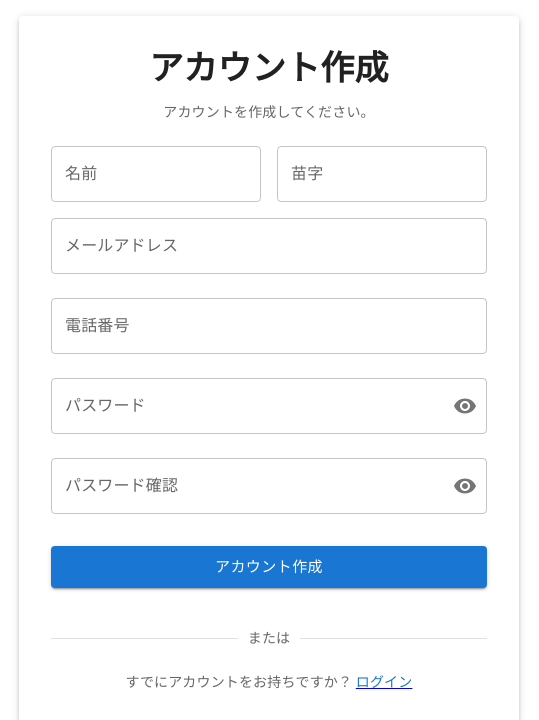
Test: RegisterForm › shows password mismatch error
In the field labelled "名前": [156, 174] box [51,146,261,202], type "Taro"
In the field labelled "苗字": [382, 174] box [277,146,487,202], type "Yamada"
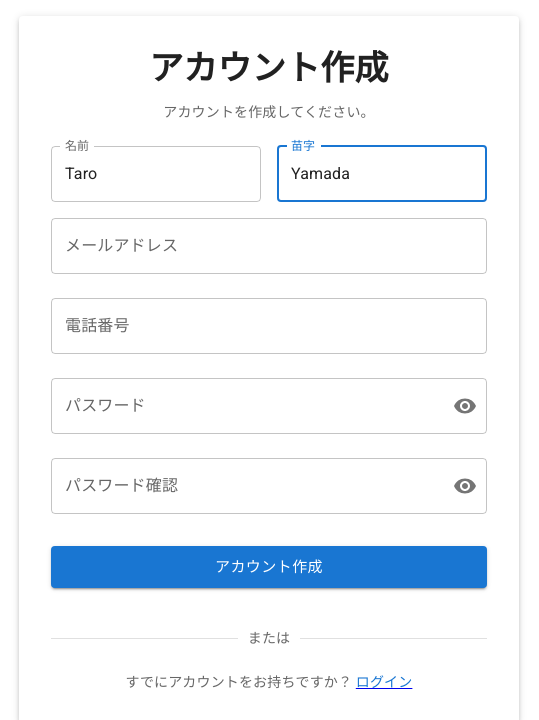
In the field labelled "メールアドレス": [269, 246] box [51,218,487,274], type "test@example.com"
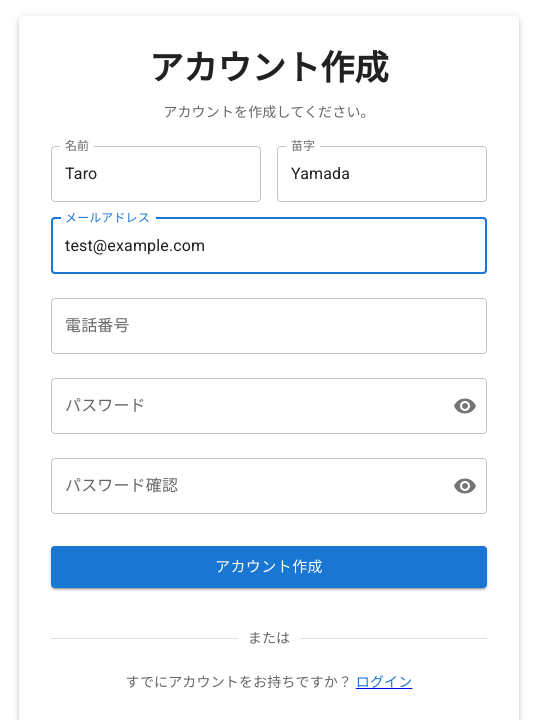
In the field labelled "電話番号": [269, 326] box [51,298,487,354], type "090-1234-5678"
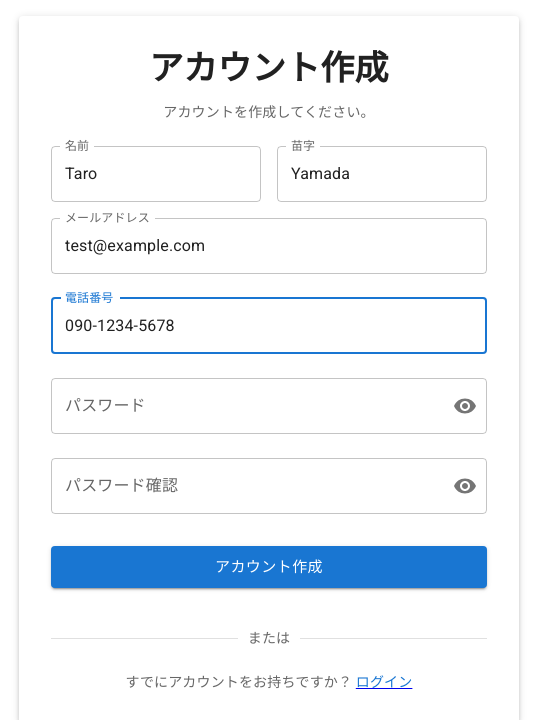
In the password field labelled "パスワード": [244, 406] box [51,378,437,434], type "password123"
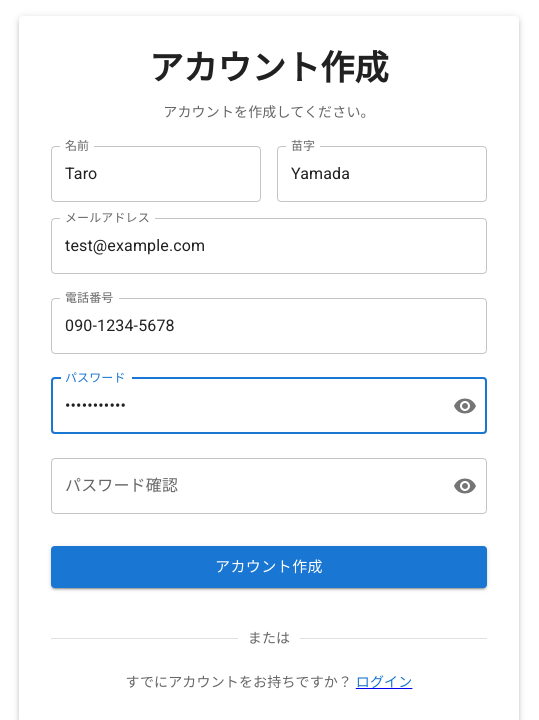
In the password field labelled "パスワード確認": [244, 486] box [51,458,437,514], type "different123"
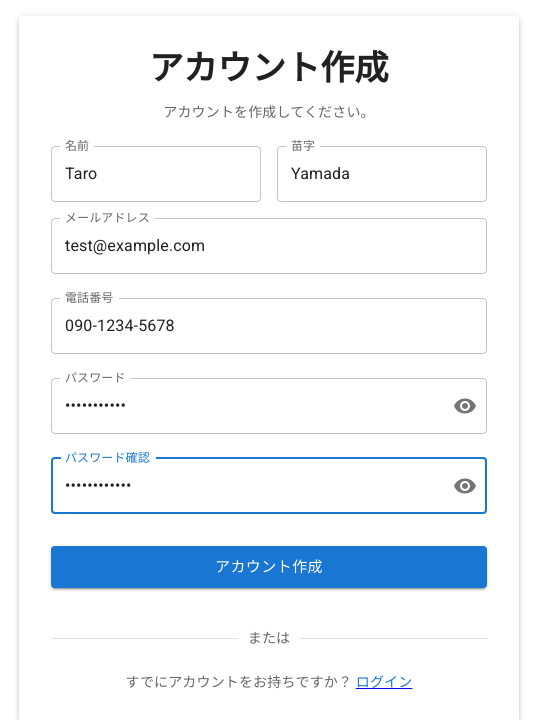
Click the button "アカウント作成": [269, 567] box [51,546,487,588]
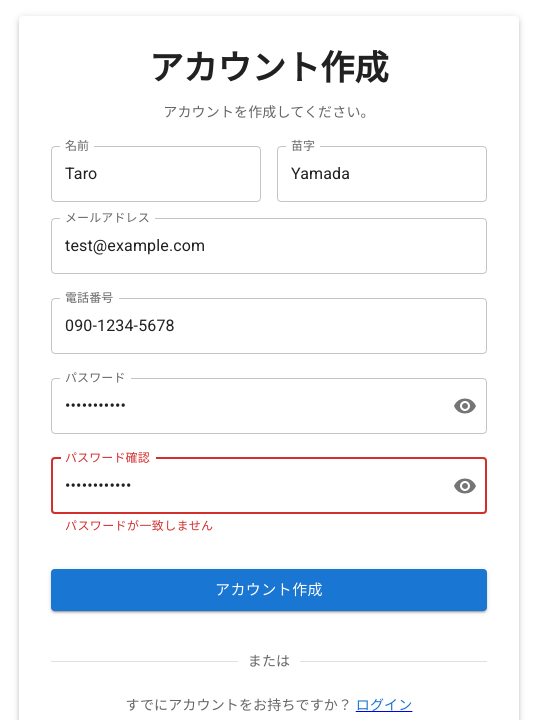
Expected: the text "パスワードが一致しません" is shown, [65,519,214,533]
